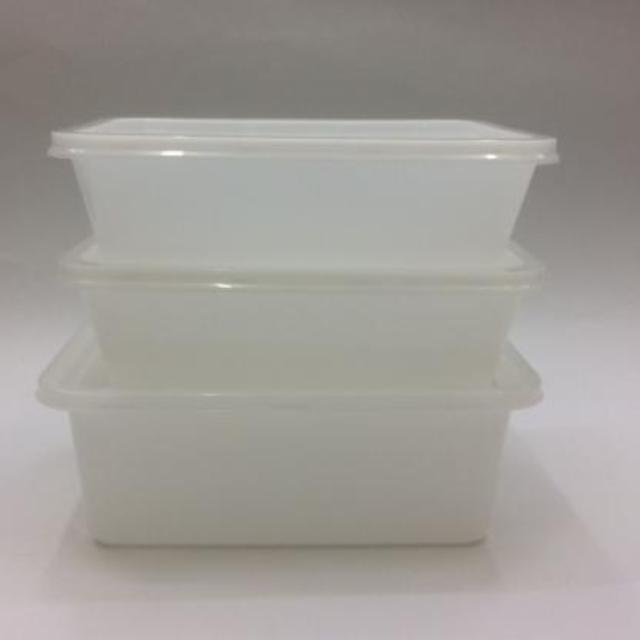plastic_box: (39, 320, 546, 548), (54, 230, 544, 396), (51, 118, 558, 272)
